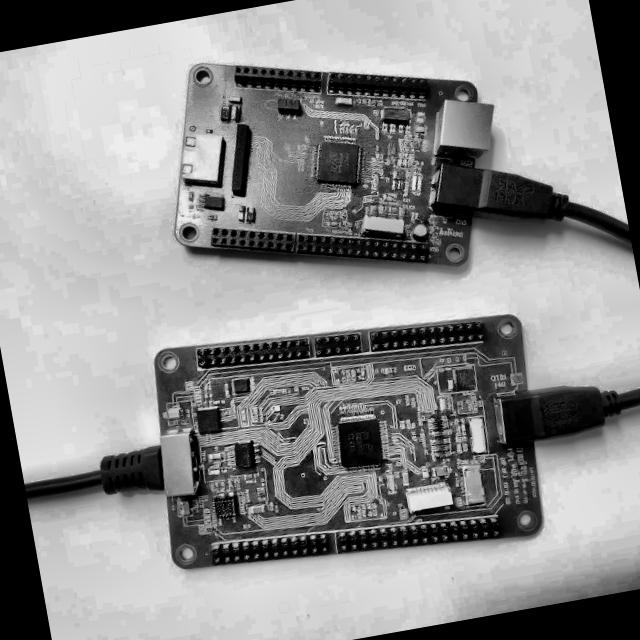Cable: (461, 132, 640, 450), (20, 438, 160, 526)
PCB: (132, 284, 561, 598), (141, 10, 523, 315)
